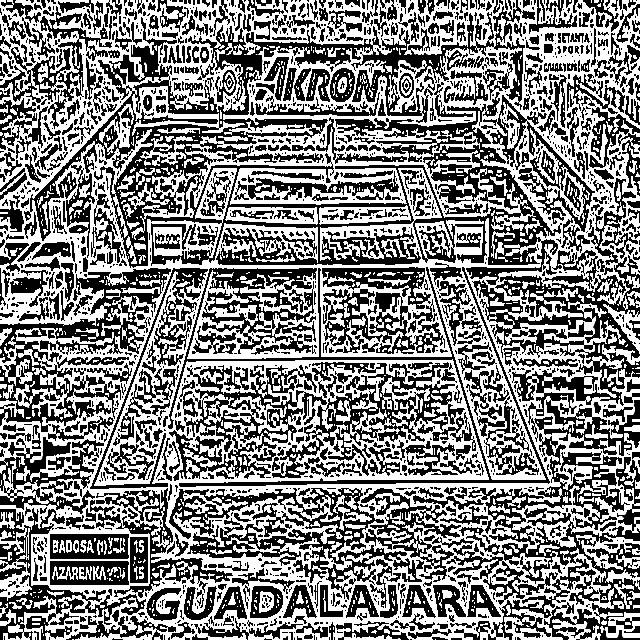left side: (396, 166, 549, 481), (91, 166, 239, 487)
player: (153, 414, 192, 556), (324, 115, 341, 183)
